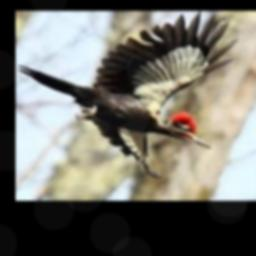Woodpecker: (17, 10, 238, 177)
